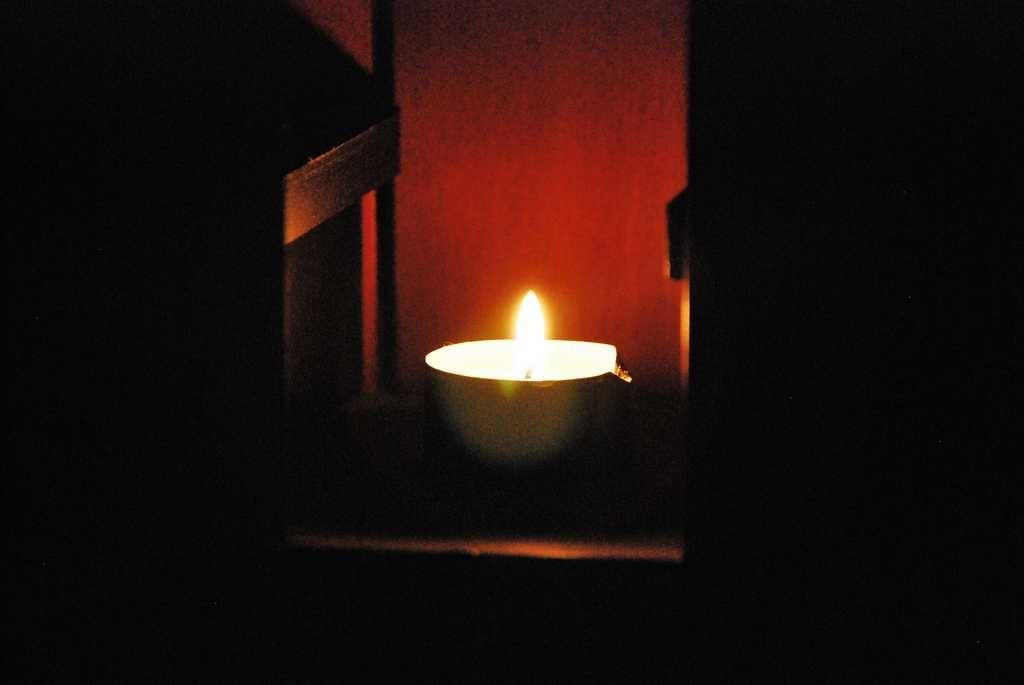fire: (518, 293, 552, 347)
